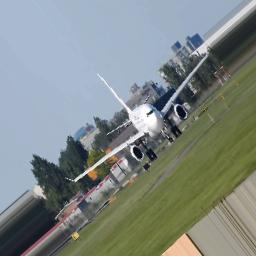Airplane: (64, 54, 209, 184)
